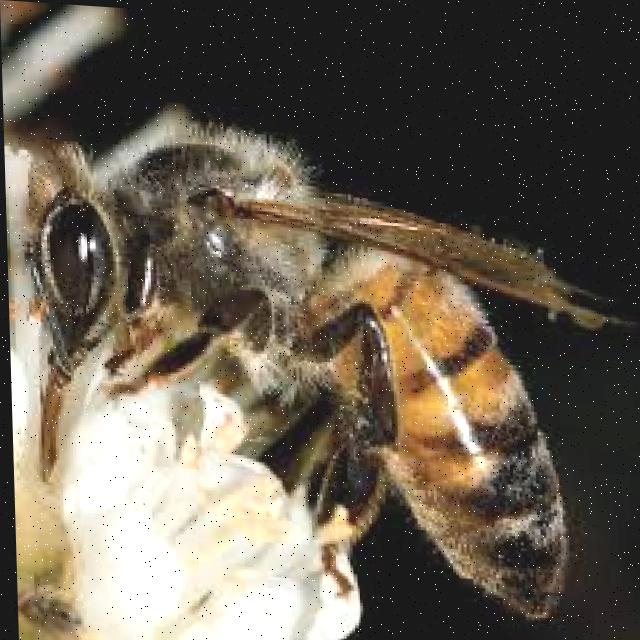Apis-mellifera-scutellata: (17, 91, 598, 631)
